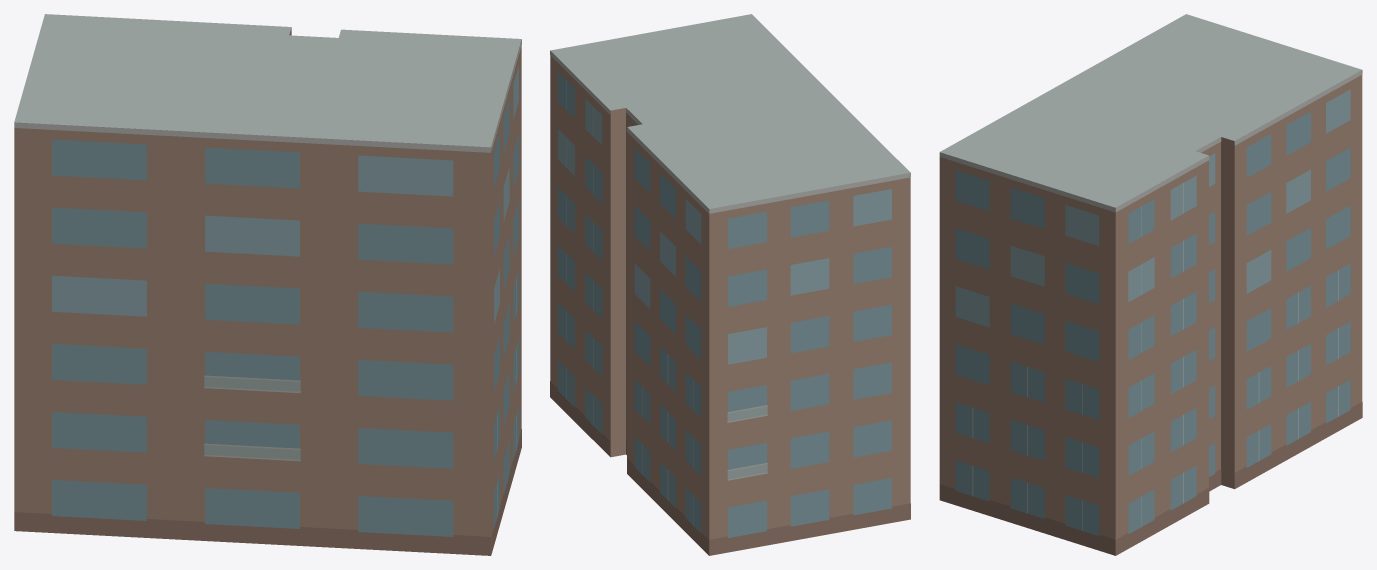
The model's file is survey-upis-32918039.glb.
The picture shows the model from 3 angles, left to right: view 1: azimuth 30°, elevation 25°; view 2: azimuth 150°, elevation 25°; view 3: azimuth 270°, elevation 25°; orthographic projection. The views are drawn at different scales.
Parts seen in each view (by area): view 1: survey-upis-32918039.tmp; view 2: survey-upis-32918039.tmp; view 3: survey-upis-32918039.tmp.
Part boxes in pixels (left/top/right/bottom): survey-upis-32918039.tmp: left=14, top=14, right=521, bottom=555; survey-upis-32918039.tmp: left=550, top=14, right=910, bottom=555; survey-upis-32918039.tmp: left=939, top=14, right=1362, bottom=555.
Bounding box in the file's own units: 21.63 × 18.1 × 19.94.
